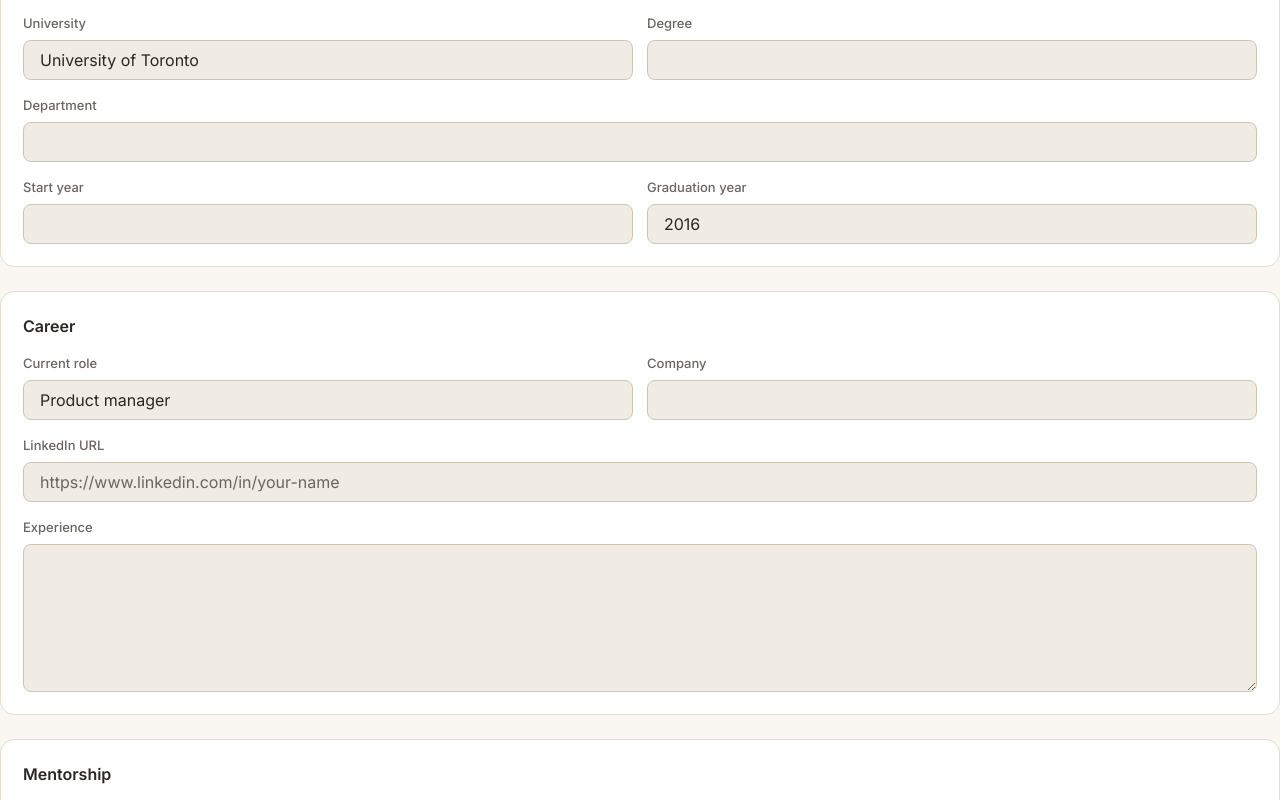
it: ProfileForm saving › puts a server field error on its field
(page scrolled)
Type "Acme" into the field labelled "Company".
click(952, 400); type("Acme")  # box [647,380,1257,420]
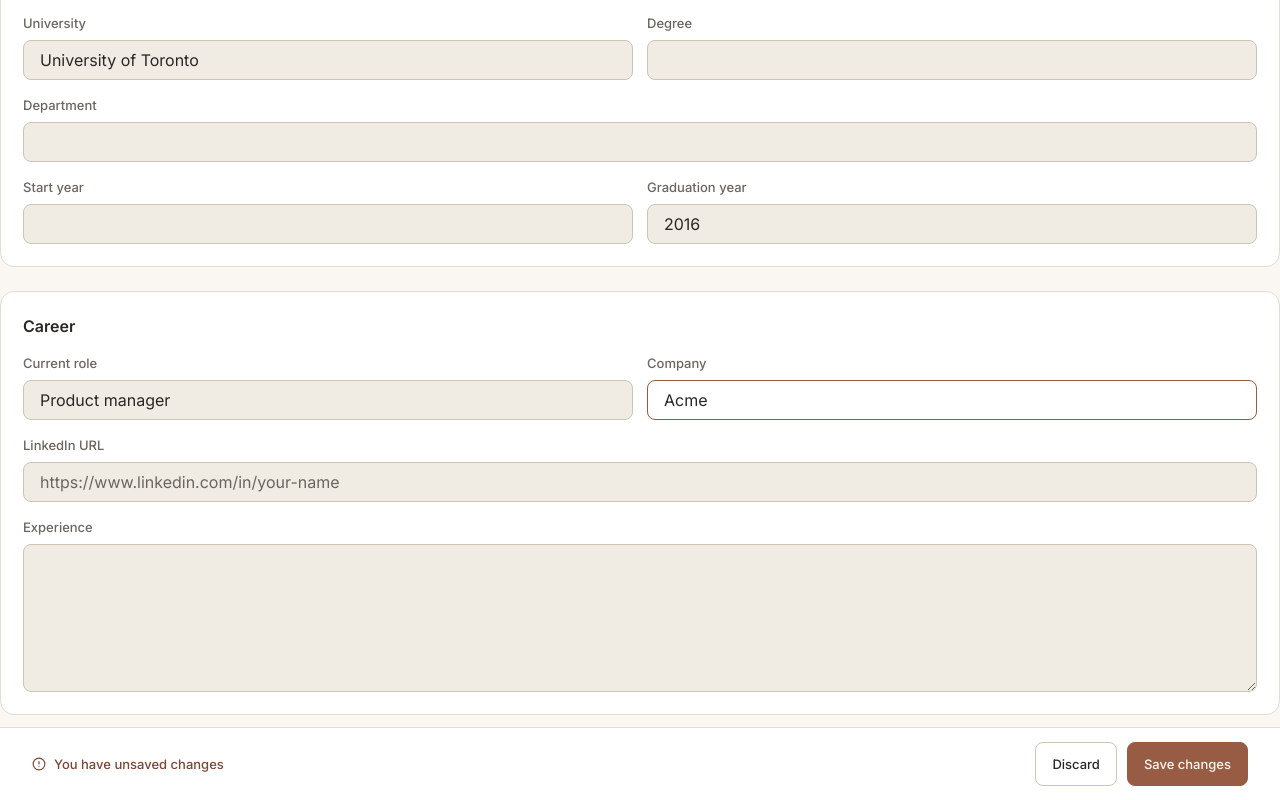
Click the button "Save changes".
click(1187, 764)  # box [1127,742,1248,786]
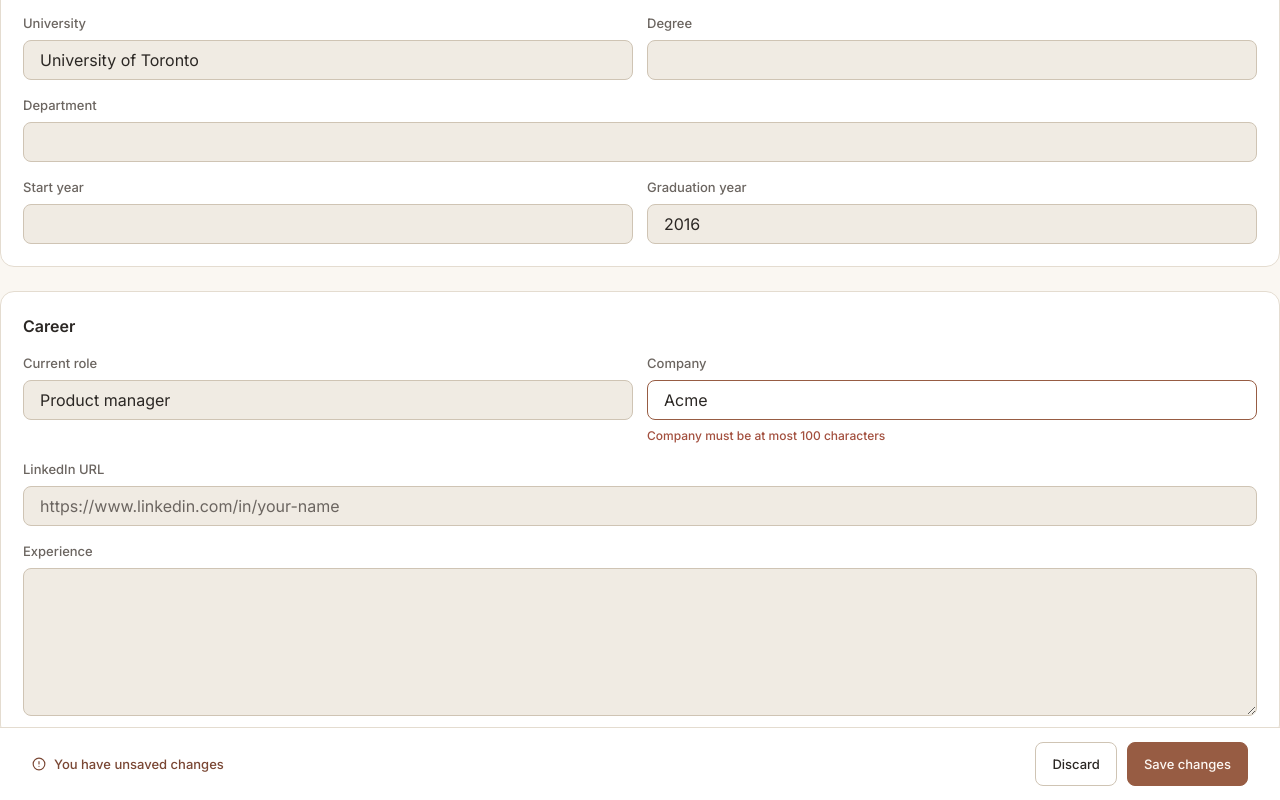
Now the element "unsaved changes" is shown, box [0,727,1279,799]
Now the text "Company must be at most 100 characters" is shown, box [647,428,885,443]
